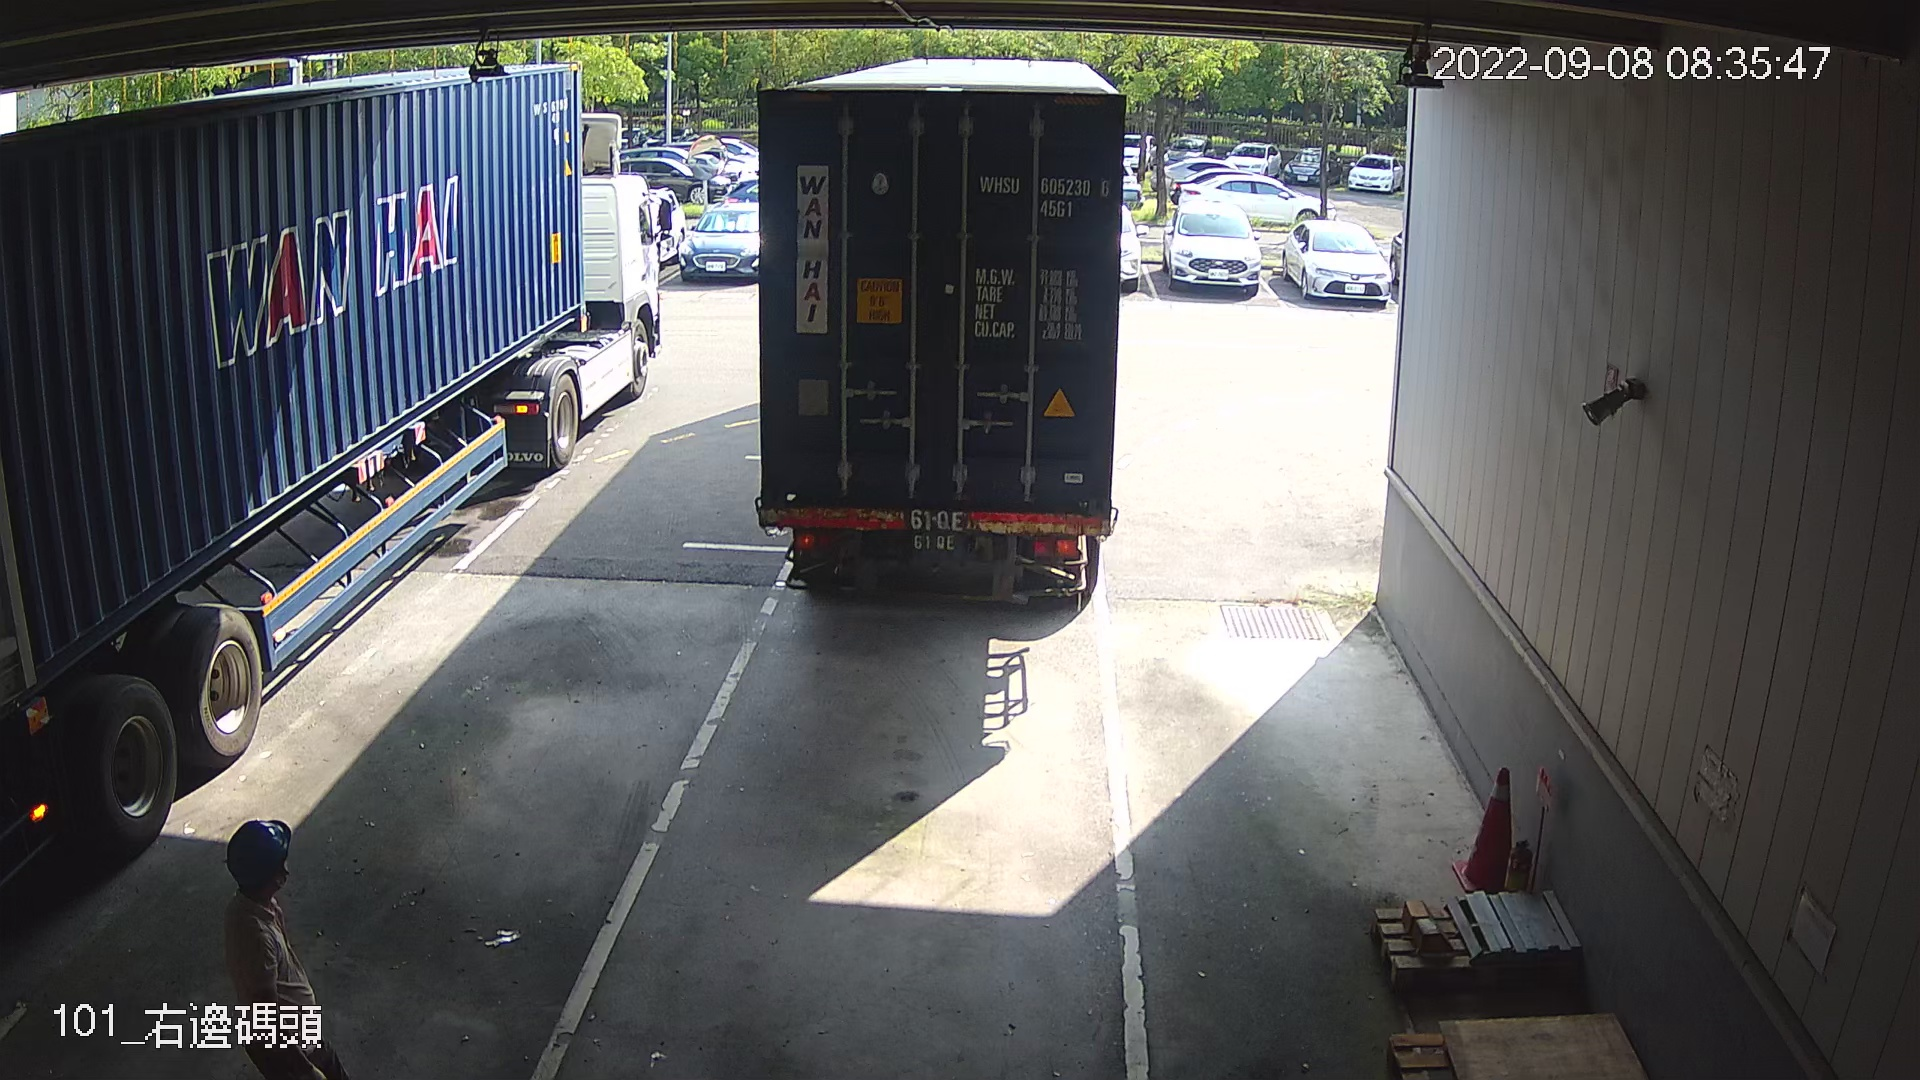container: (969, 161, 1117, 225)
